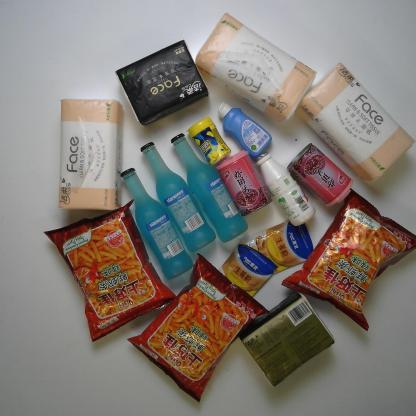Alcohol: (170, 131, 248, 242), (119, 166, 194, 281), (140, 141, 217, 250)
Canned Food: (286, 141, 354, 208), (216, 148, 273, 216)
Gum: (186, 117, 231, 164)
Milk: (255, 152, 315, 226)
Personal Hygiene: (216, 101, 273, 157)
Puffed Food: (126, 251, 269, 404), (42, 198, 177, 344), (281, 188, 415, 332)
Seasoner: (207, 240, 278, 311), (236, 215, 316, 278)
Tissue: (296, 63, 416, 182), (193, 13, 318, 126), (240, 291, 334, 386), (114, 40, 208, 127), (57, 98, 122, 212)
